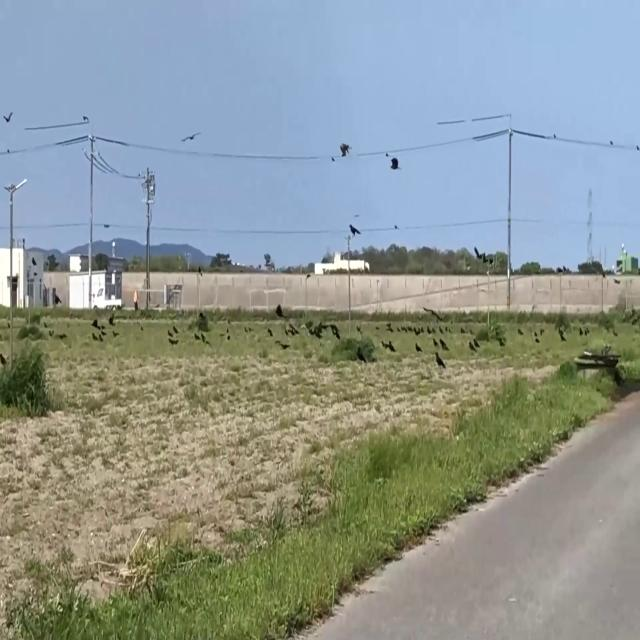bird: (180, 122, 200, 150), (339, 133, 351, 164), (348, 216, 361, 243), (2, 103, 14, 131), (435, 342, 445, 374), (390, 149, 400, 176)
